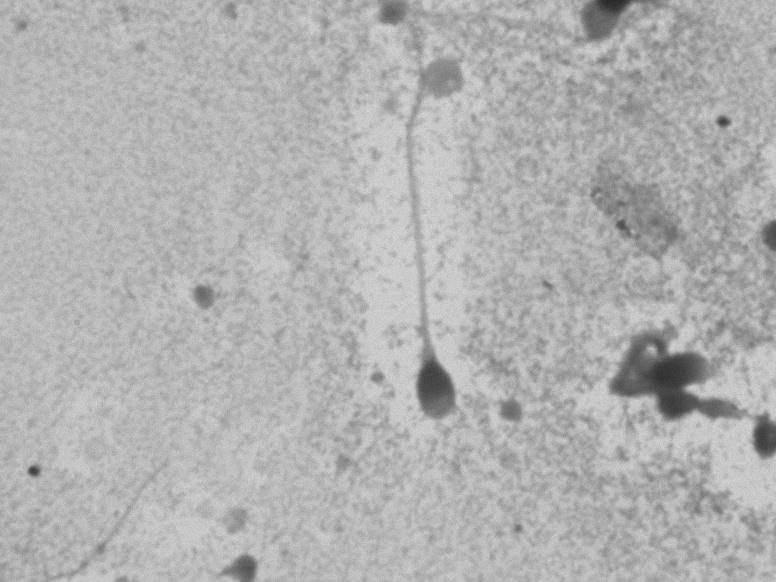Normal: (355, 13, 473, 437)
